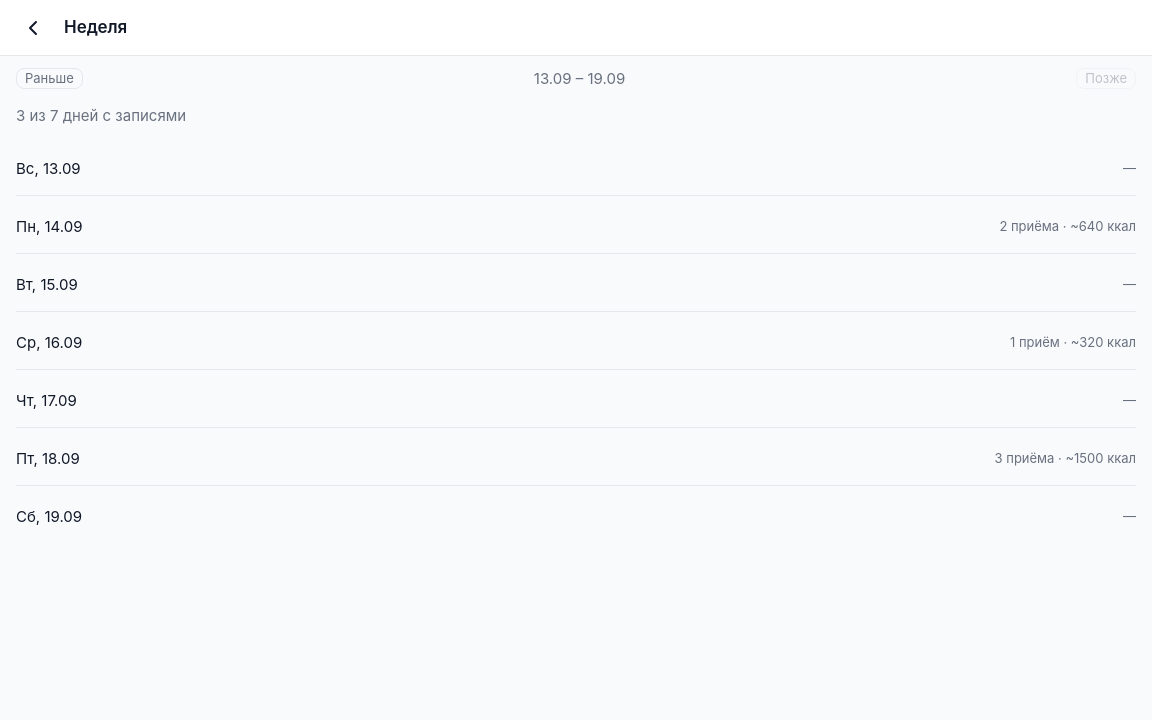
Scenario: неделя: стрелки › на четвёртой неделе назад «раньше» неактивна — предел, не ошибка
Expected: the text "3 из 7 дней с записями" is shown, [16,106,186,125]
Click the button "Раньше".
click(49, 78)  # box [16,68,83,89]
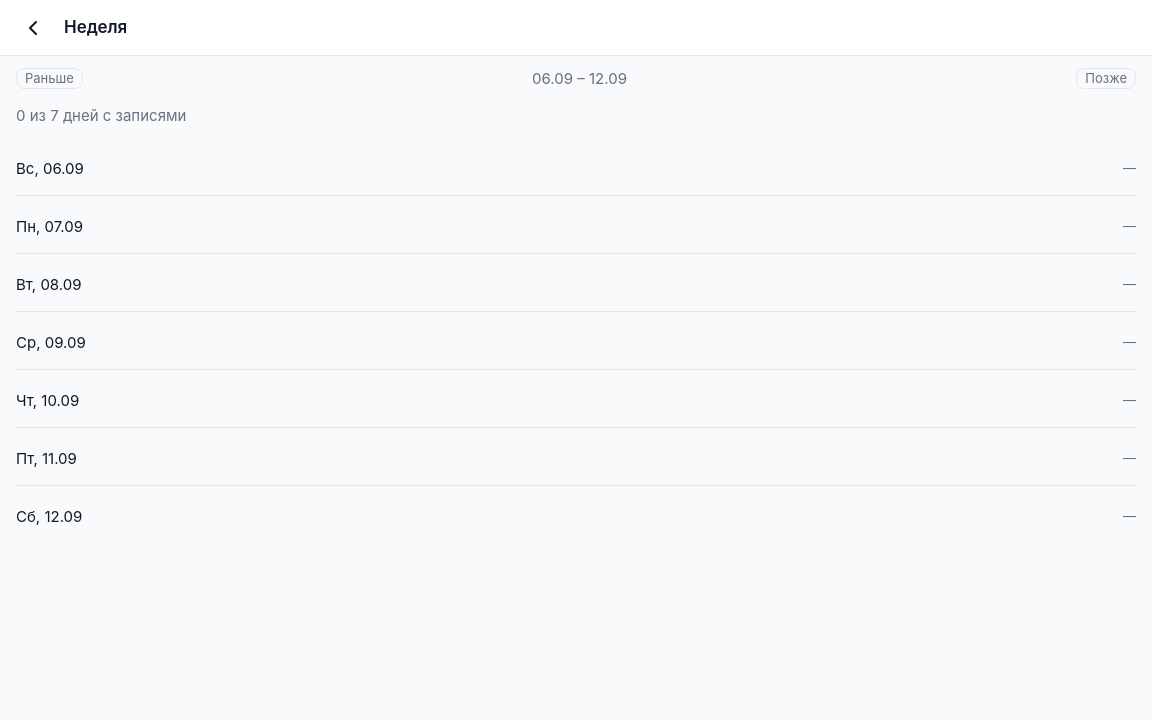
Click the button "Раньше".
click(49, 78)  # box [16,68,83,89]
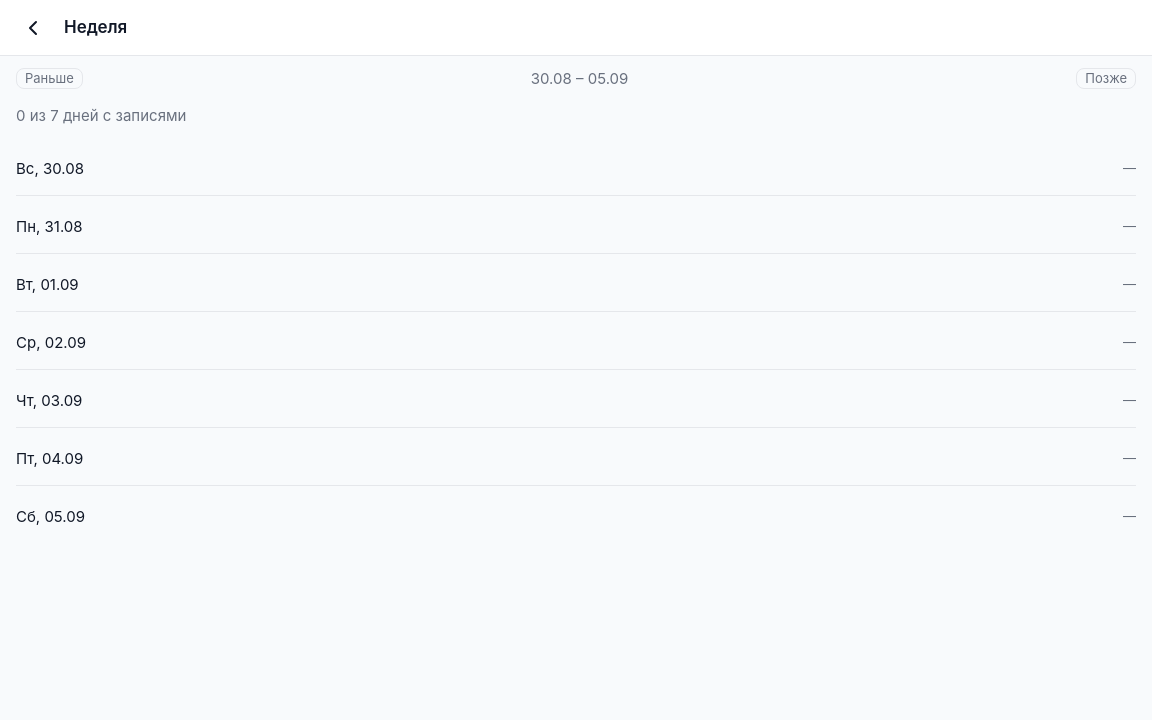
Click the button "Раньше".
click(49, 78)  # box [16,68,83,89]
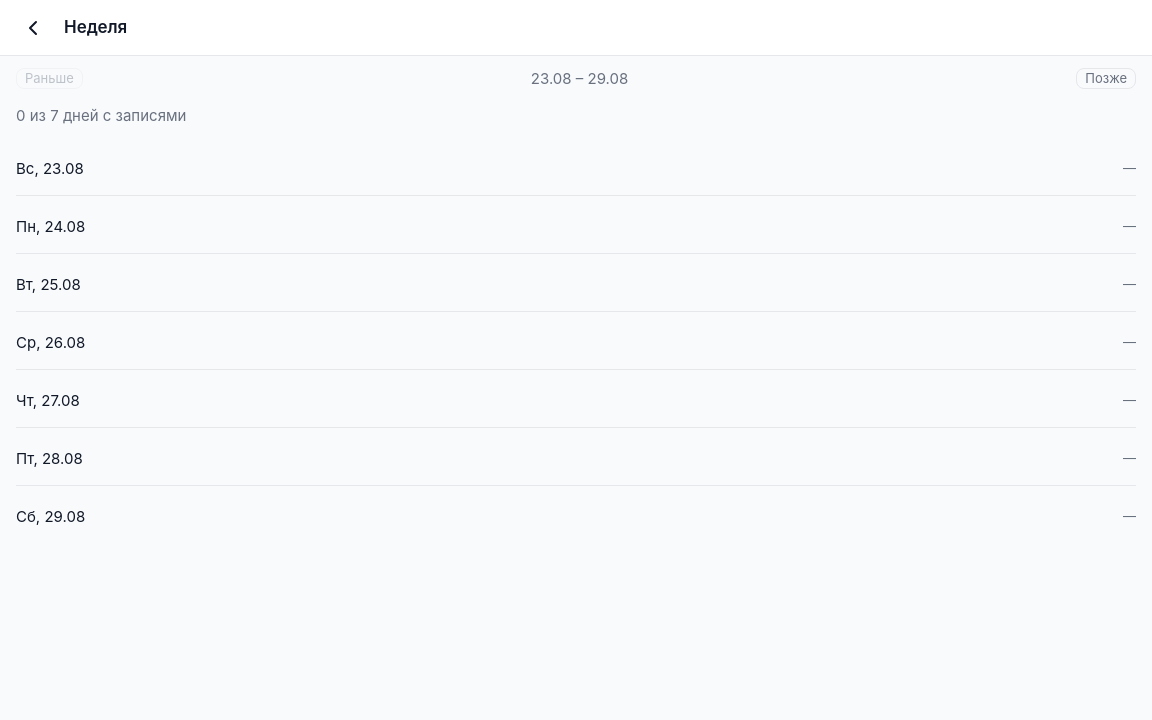
Expected: the button "Раньше" is disabled, [16,68,83,89]
